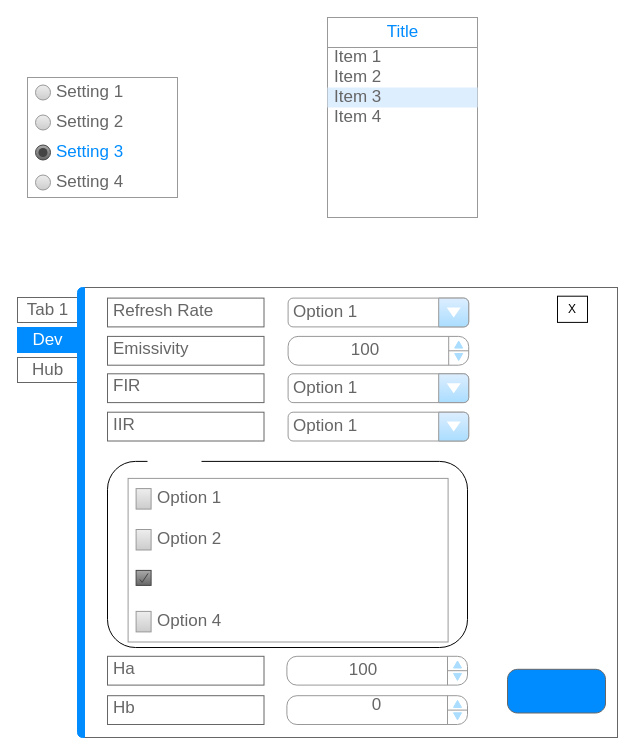
This 635x755 diagram has some shape labels left out. The shapes that lost their labels are listed below. From the top down, each one's centre as x and y in pixels, then its label:
point (174, 461): Flags
point (143, 577): Option 3
point (556, 690): Submit
